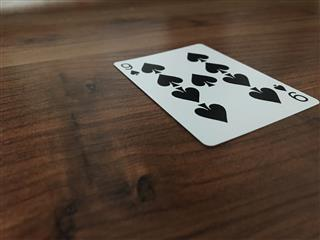NineOfSpades: (112, 42, 319, 147)
